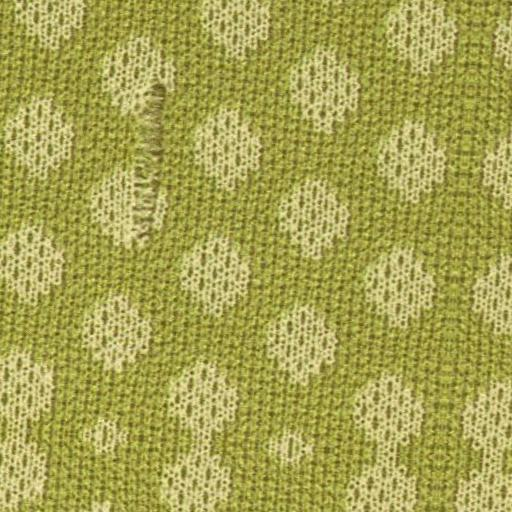slub: (126, 79, 177, 242)
